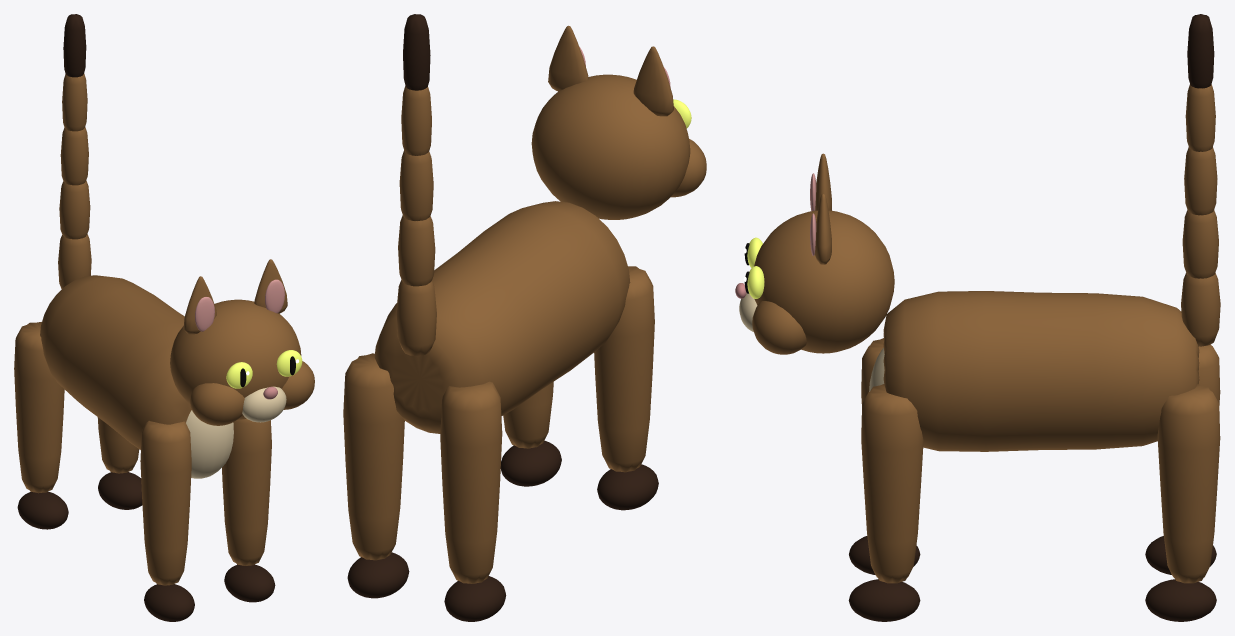
The model's file is badahh-Bc6ovgJm.glb.
3 renders of one model, left to right at view 1: azimuth 30°, elevation 25°; view 2: azimuth 150°, elevation 25°; view 3: azimuth 270°, elevation 25°, orthographic. The views are drawn at different scales.
Parts seen in each view (by area): view 1: badahh_body_TEX_mackerel, badahh_head_TEX_mackerel, badahh_leg0_TEX_mackerel, badahh_leg2_TEX_mackerel, badahh_leg1_TEX_mackerel, badahh_body_badahh_chin, badahh_tail1_TEX_mackerel, badahh_leg2_badahh_paw, badahh_leg0_badahh_paw, badahh_leg1_badahh_paw, badahh_tail2_TEX_mackerel, badahh_leg3_TEX_mackerel (+7 smaller); view 2: badahh_body_TEX_mackerel, badahh_head_TEX_mackerel, badahh_leg2_TEX_mackerel, badahh_leg3_TEX_mackerel, badahh_leg0_TEX_mackerel, badahh_tail0_TEX_mackerel, badahh_tail1_TEX_mackerel, badahh_leg1_TEX_mackerel, badahh_tail2_TEX_mackerel, badahh_leg0_badahh_paw, badahh_leg1_badahh_paw, badahh_leg3_badahh_paw (+3 smaller); view 3: badahh_body_TEX_mackerel, badahh_head_TEX_mackerel, badahh_leg3_TEX_mackerel, badahh_leg1_TEX_mackerel, badahh_leg3_badahh_paw, badahh_leg1_badahh_paw, badahh_tail0_TEX_mackerel, badahh_tail1_TEX_mackerel, badahh_tail2_TEX_mackerel, badahh_tail3_TEX_mackerel, badahh_tail4_badahh_dark, badahh_leg2_TEX_mackerel (+4 smaller).
Boxes of the visible parts, left/top/right/bottom form: badahh_body_TEX_mackerel: left=40, top=275, right=191, bottom=449; badahh_head_TEX_mackerel: left=170, top=259, right=314, bottom=425; badahh_leg0_TEX_mackerel: left=140, top=420, right=191, bottom=585; badahh_leg2_TEX_mackerel: left=14, top=322, right=64, bottom=493; badahh_leg1_TEX_mackerel: left=222, top=418, right=271, bottom=565; badahh_body_badahh_chin: left=186, top=410, right=233, bottom=478; badahh_tail1_TEX_mackerel: left=59, top=180, right=90, bottom=239; badahh_leg2_badahh_paw: left=17, top=491, right=68, bottom=529; badahh_leg0_badahh_paw: left=144, top=584, right=194, bottom=621; badahh_leg1_badahh_paw: left=224, top=564, right=275, bottom=602; badahh_tail2_TEX_mackerel: left=60, top=127, right=88, bottom=185; badahh_leg3_TEX_mackerel: left=97, top=417, right=139, bottom=473; badahh_body_TEX_mackerel: left=374, top=201, right=630, bottom=433; badahh_head_TEX_mackerel: left=531, top=25, right=706, bottom=219; badahh_leg2_TEX_mackerel: left=440, top=381, right=502, bottom=583; badahh_leg3_TEX_mackerel: left=343, top=353, right=404, bottom=560; badahh_leg0_TEX_mackerel: left=594, top=266, right=654, bottom=472; badahh_tail0_TEX_mackerel: left=396, top=280, right=436, bottom=356; badahh_tail1_TEX_mackerel: left=398, top=215, right=435, bottom=286; badahh_leg1_TEX_mackerel: left=503, top=382, right=553, bottom=448; badahh_tail2_TEX_mackerel: left=399, top=150, right=433, bottom=220; badahh_leg0_badahh_paw: left=597, top=464, right=658, bottom=510; badahh_leg1_badahh_paw: left=500, top=440, right=561, bottom=486; badahh_leg3_badahh_paw: left=347, top=552, right=409, bottom=598; badahh_body_TEX_mackerel: left=883, top=291, right=1199, bottom=451; badahh_head_TEX_mackerel: left=752, top=153, right=894, bottom=354; badahh_leg3_TEX_mackerel: left=1157, top=384, right=1220, bottom=583; badahh_leg1_TEX_mackerel: left=861, top=384, right=923, bottom=583; badahh_leg3_badahh_paw: left=1145, top=579, right=1216, bottom=621; badahh_leg1_badahh_paw: left=848, top=579, right=920, bottom=621; badahh_tail0_TEX_mackerel: left=1181, top=273, right=1220, bottom=346; badahh_tail1_TEX_mackerel: left=1182, top=210, right=1218, bottom=278; badahh_tail2_TEX_mackerel: left=1184, top=147, right=1217, bottom=215; badahh_tail3_TEX_mackerel: left=1185, top=84, right=1215, bottom=151; badahh_tail4_badahh_dark: left=1187, top=14, right=1214, bottom=88; badahh_leg2_TEX_mackerel: left=1198, top=344, right=1220, bottom=405.
Bounding box in the file's own units: 0.1705 × 0.6485 × 0.4911.
